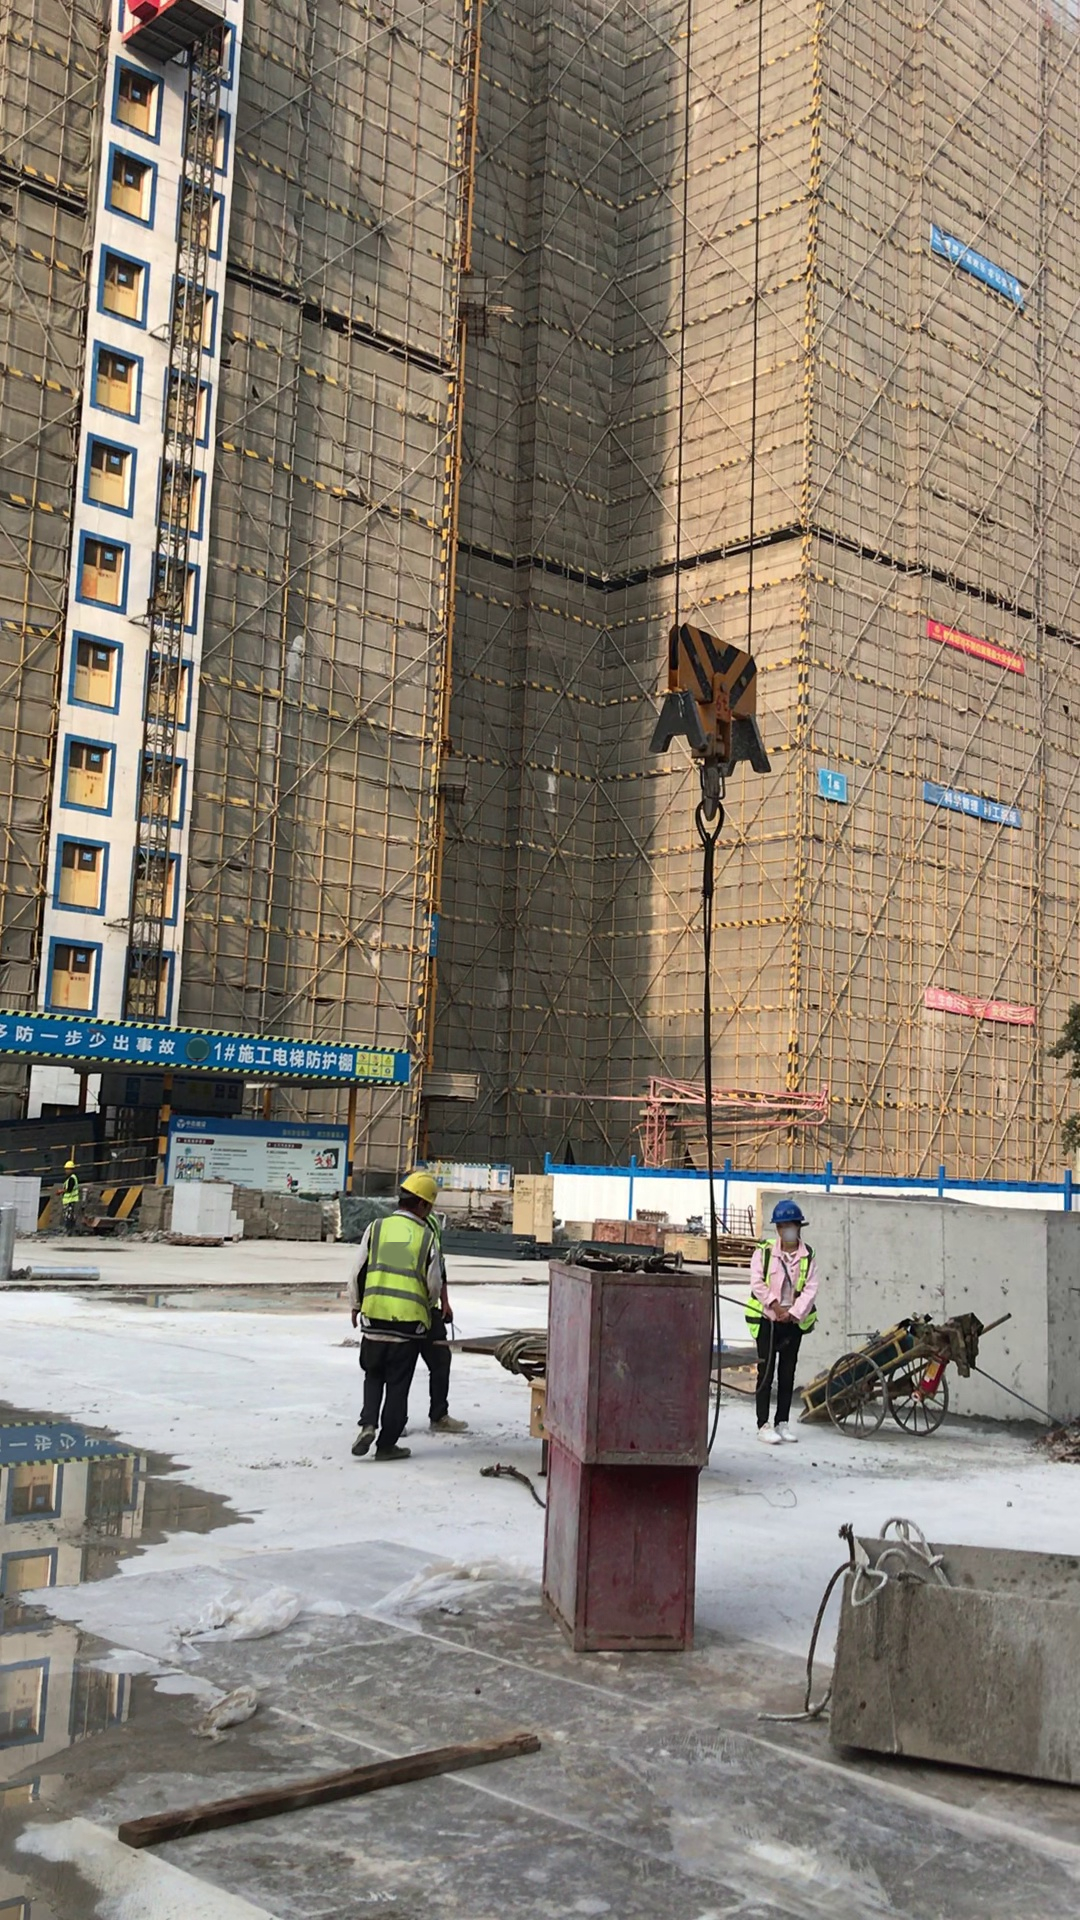brick: (170, 1182, 245, 1246), (2, 1157, 51, 1236)
ebox: (522, 1367, 553, 1452)
fence: (39, 1131, 173, 1203)
handcart: (796, 1305, 1015, 1448)
helmet: (398, 1167, 448, 1213), (761, 1195, 814, 1231), (61, 1152, 86, 1173)
hook: (630, 609, 813, 871)
hopper: (796, 1511, 1080, 1810)
person: (345, 1129, 451, 1498), (743, 1181, 834, 1448), (51, 1138, 107, 1254)
slogan: (1, 994, 427, 1107), (910, 209, 1031, 322), (916, 611, 1050, 701), (1, 1405, 142, 1490), (910, 762, 1031, 850), (904, 971, 1040, 1045), (799, 750, 855, 816)
vest: (361, 1212, 433, 1339), (745, 1238, 830, 1344), (417, 1213, 459, 1285), (58, 1174, 87, 1206)
wood: (231, 1184, 326, 1243), (135, 1180, 173, 1235)
